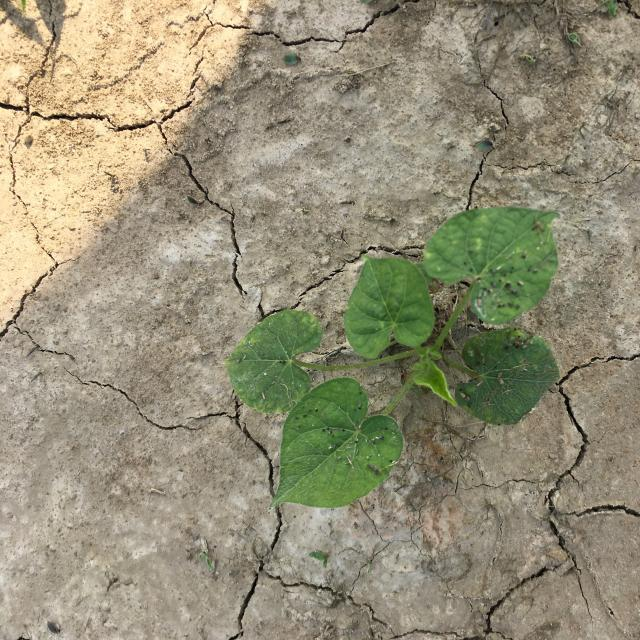MorningGlory: (223, 207, 562, 510)
